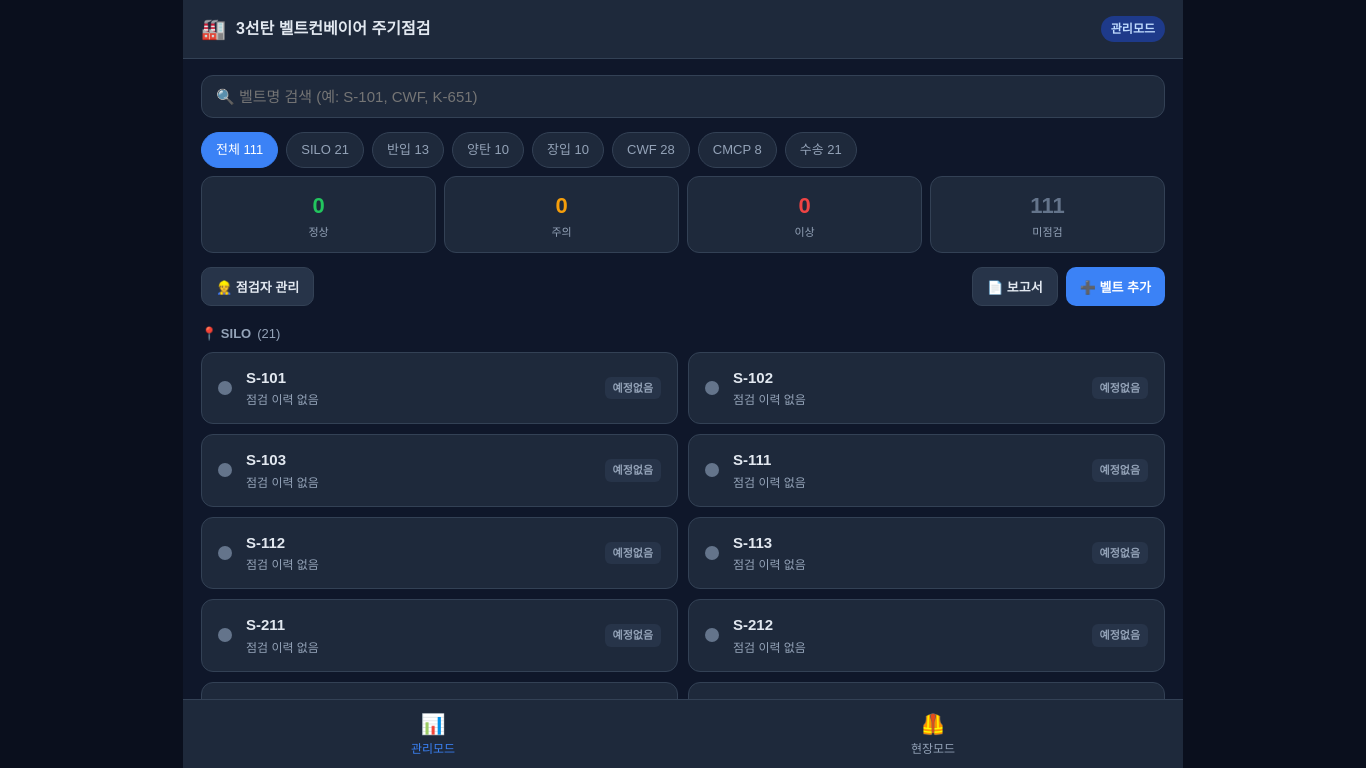
Test: App 통합 렌더 › 벨트 추가 모달: 비밀번호 틀리면 에러
Click the button "➕ 벨트 추가".
click(1115, 286)  # box x1=1066 y1=267 x2=1165 y2=306
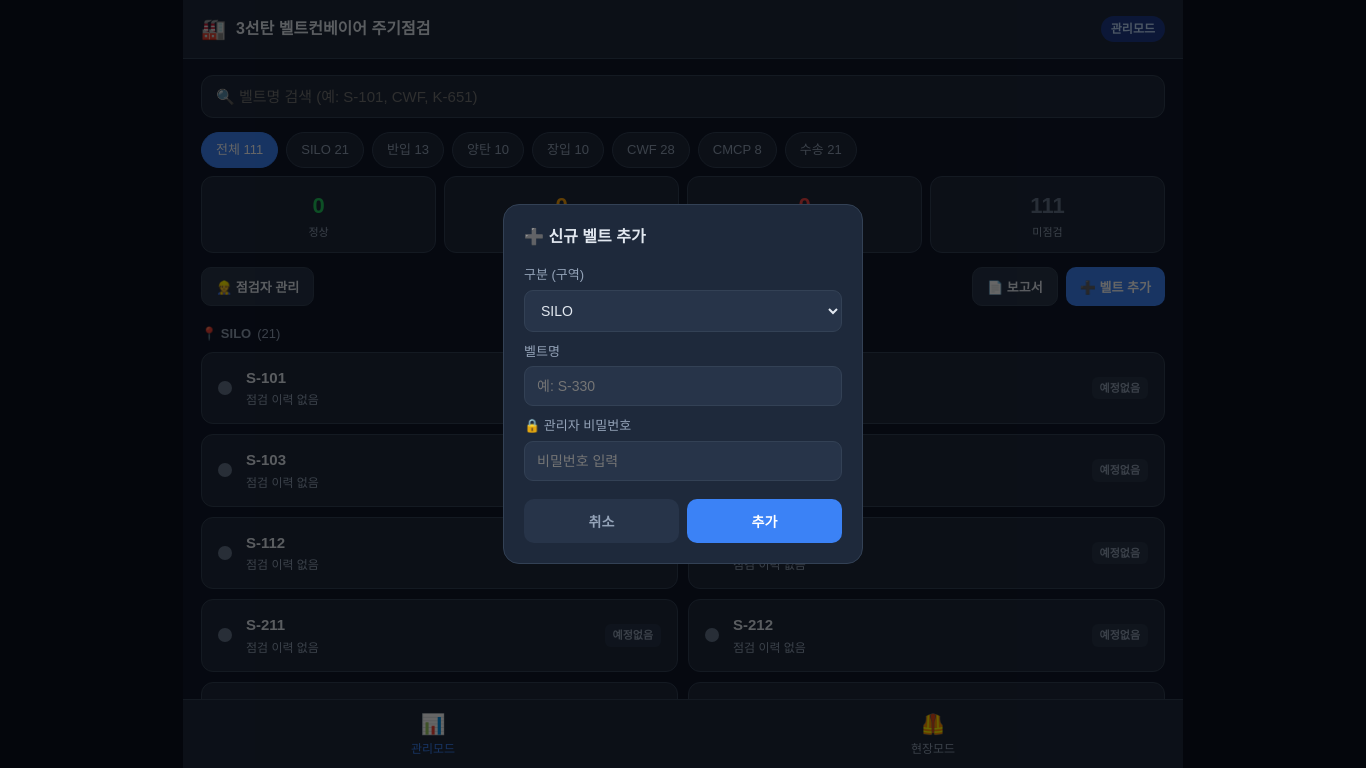
Type "S-777" into the field with placeholder "예: S-330".
click(683, 386); type("S-777")  # box x1=524 y1=366 x2=842 y2=406
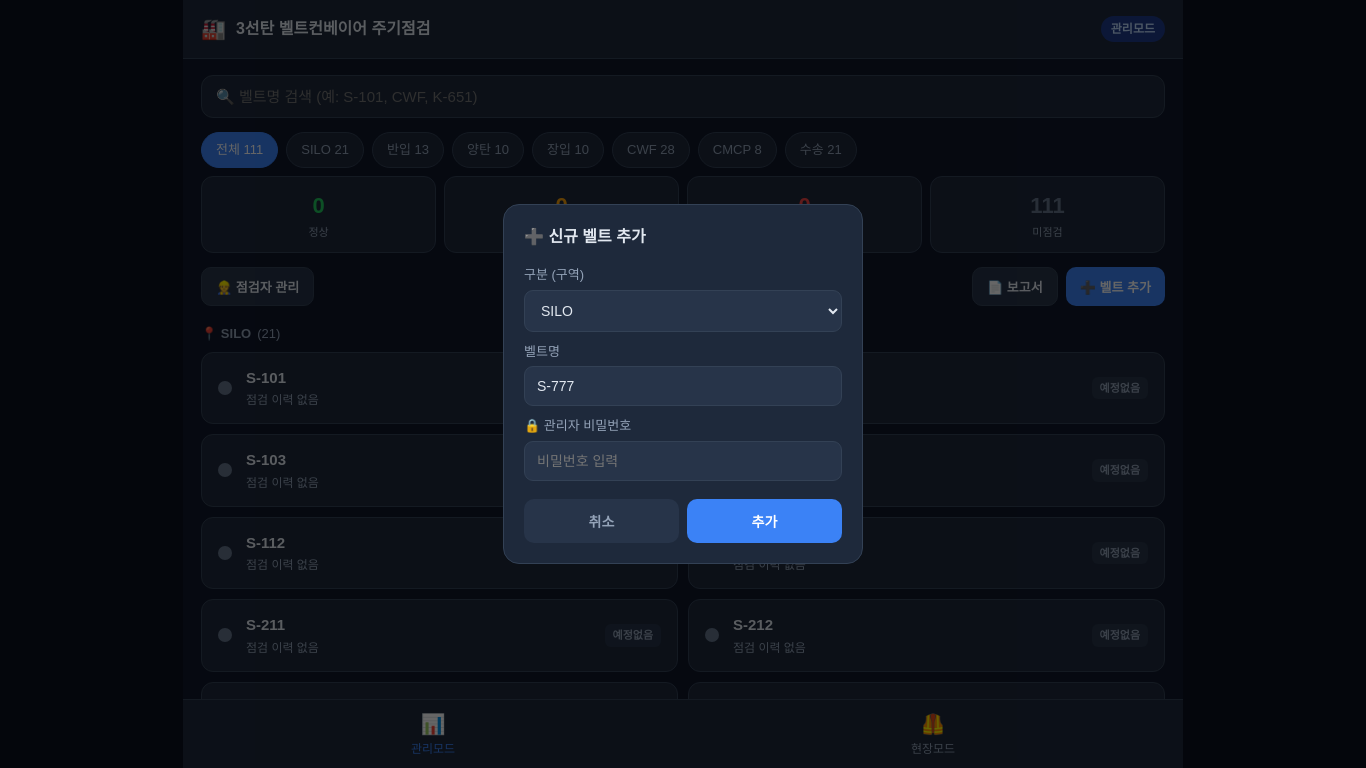
Type "wrong" into the password field with placeholder "비밀번호 입력".
click(683, 461); type("wrong")  # box x1=524 y1=441 x2=842 y2=481
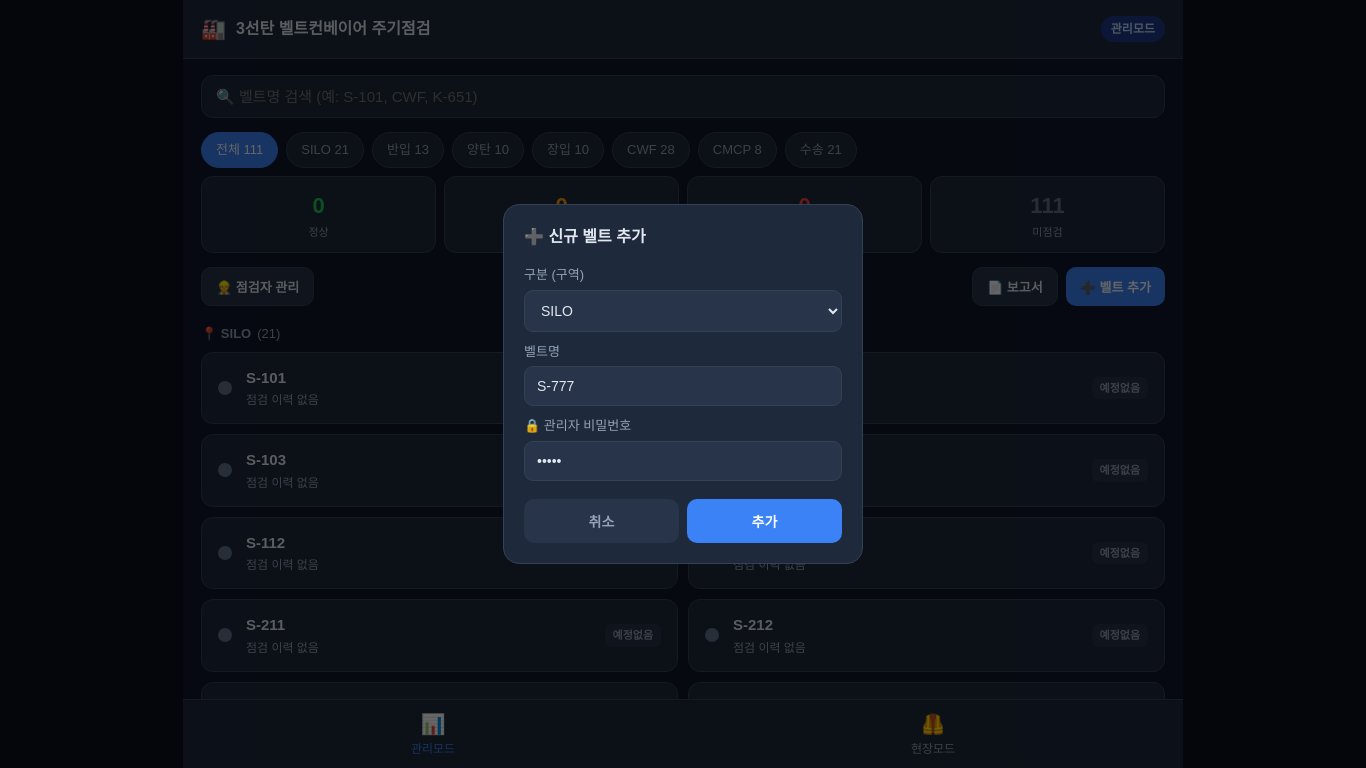
Click the button "추가".
click(764, 521)  # box x1=687 y1=499 x2=842 y2=543
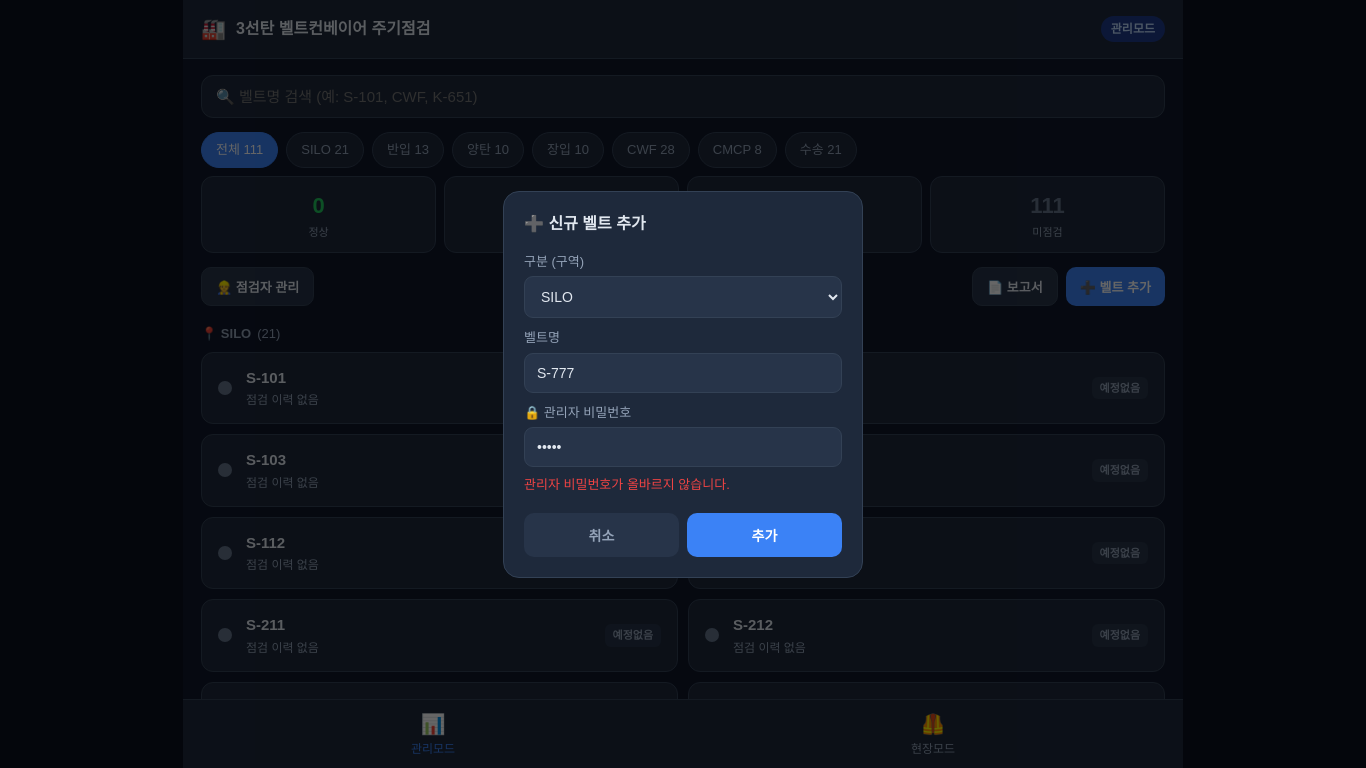
Now the text "관리자 비밀번호가 올바르지 않습니다." is shown, box x1=524 y1=477 x2=730 y2=492
